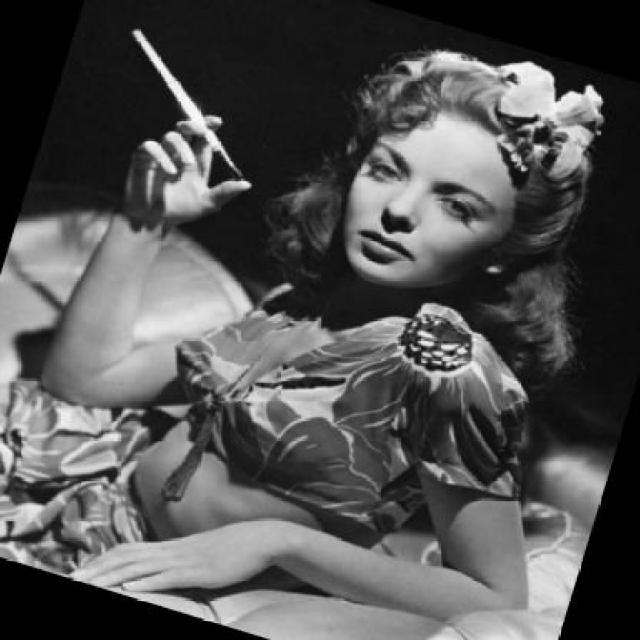smoke: (116, 20, 190, 86)
